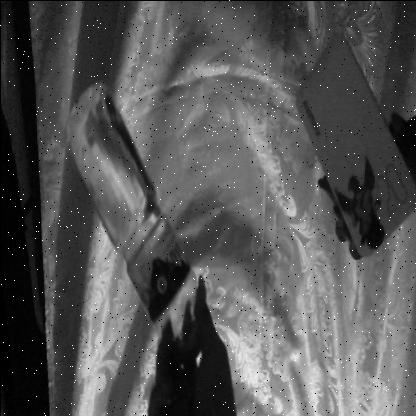Plastic Bottle: (57, 71, 223, 371)
